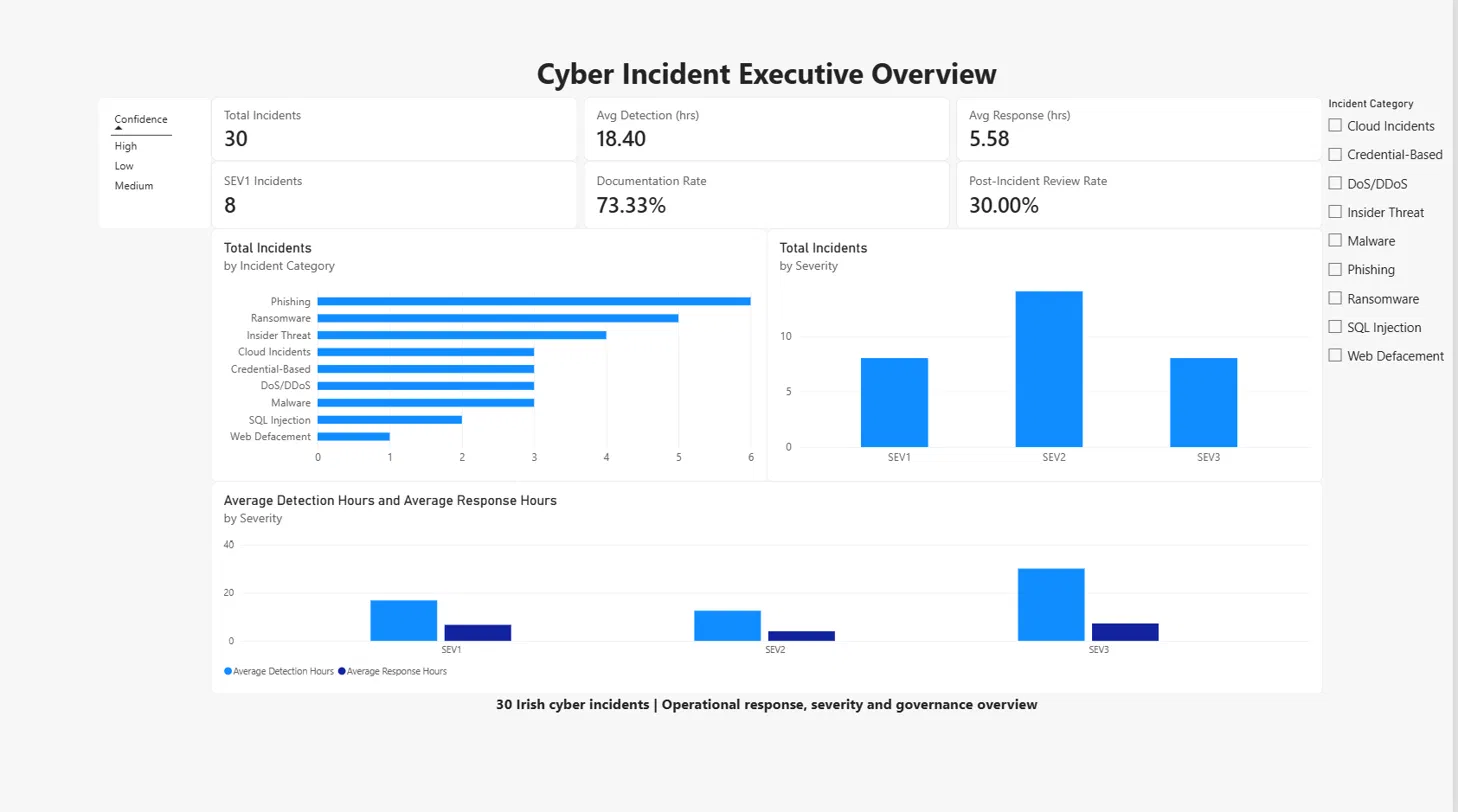

What the dashboard file says about the page in this screenshot:
{"tool":"powerbi","page":{"name":"Cyber Incident Executive Overview","canvas":[1920,1080],"ordinal":0},"visuals":[{"type":"textbox","box":[280.1,75.1,1468,57.9],"z":0},{"type":"textbox","box":[280.1,921.8,1468,36],"z":1000},{"type":"slicer","fields":{"Values":["CyberIncidents.Incident Category"]},"box":[1748,134,172,406],"z":2000},{"type":"tableEx","fields":{"Values":["CyberIncidents.Confidence"]},"box":[130,134,150,174],"z":3000},{"type":"cardVisual","fields":{"Data":["CyberIncidents.Total Incidents","CyberIncidents.Average Detection Hours","CyberIncidents.Average Response Hours"]},"box":[280,134,1468,84],"z":4000},{"type":"cardVisual","fields":{"Data":["CyberIncidents.SEV1 Incidents","CyberIncidents.Documentation Rate","CyberIncidents.Post-Incident Review Completion Rate"]},"box":[280,218,1468,90],"z":5000},{"type":"clusteredBarChart","fields":{"Category":["CyberIncidents.Incident Category"],"Y":["CyberIncidents.Total Incidents"]},"box":[280,308,734,334],"z":6000},{"type":"clusteredColumnChart","fields":{"Category":["CyberIncidents.Severity"],"Y":["CyberIncidents.Total Incidents"]},"box":[1014,308,734,334],"z":7000},{"type":"clusteredColumnChart","fields":{"Category":["CyberIncidents.Severity"],"Y":["CyberIncidents.Average Detection Hours","CyberIncidents.Average Response Hours"]},"box":[280,642,1468,280],"z":8000}]}

Visuals, with their boxes in screenshot pixels (x1, y1, x2, y2), scaled from the page's 1920x1080 canvas onto the 1458x812 screenshot:
textbox: (213, 56, 1327, 100)
textbox: (213, 693, 1327, 720)
slicer - CyberIncidents.Incident Category: (1327, 101, 1457, 406)
tableEx - CyberIncidents.Confidence: (99, 101, 213, 232)
cardVisual - CyberIncidents.Total Incidents x CyberIncidents.Average Detection Hours: (213, 101, 1327, 164)
cardVisual - CyberIncidents.SEV1 Incidents x CyberIncidents.Documentation Rate: (213, 164, 1327, 232)
clusteredBarChart - CyberIncidents.Incident Category x CyberIncidents.Total Incidents: (213, 232, 770, 483)
clusteredColumnChart - CyberIncidents.Severity x CyberIncidents.Total Incidents: (770, 232, 1327, 483)
clusteredColumnChart - CyberIncidents.Severity x CyberIncidents.Average Detection Hours: (213, 483, 1327, 693)
